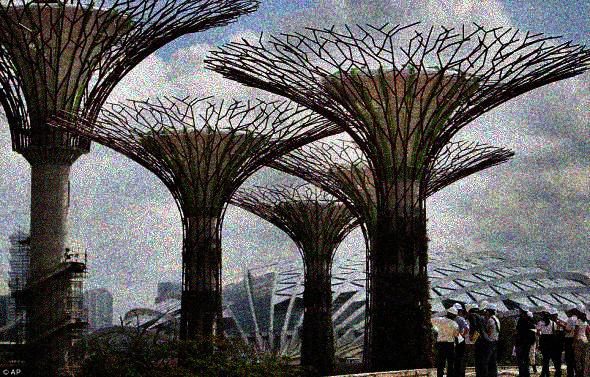helmet: (565, 303, 578, 317), (576, 302, 586, 318), (446, 306, 458, 319), (485, 303, 497, 316), (518, 302, 530, 314), (549, 307, 559, 321), (453, 302, 463, 315), (469, 302, 479, 314), (541, 306, 551, 317)
